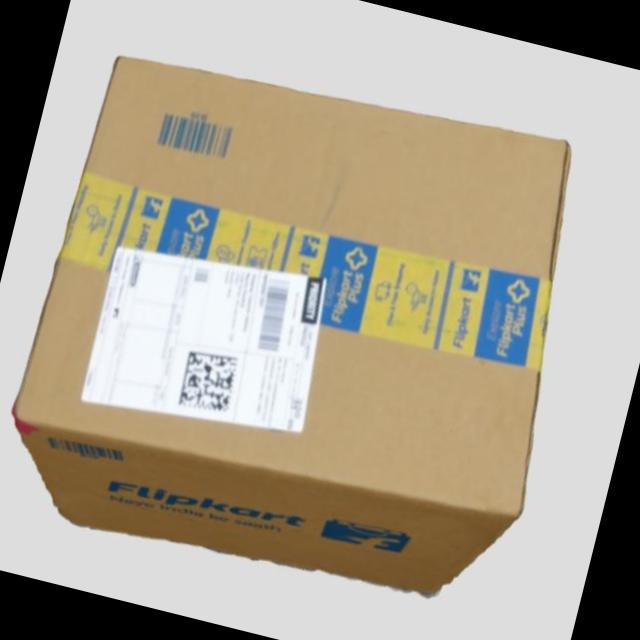box: (14, 54, 569, 597)
